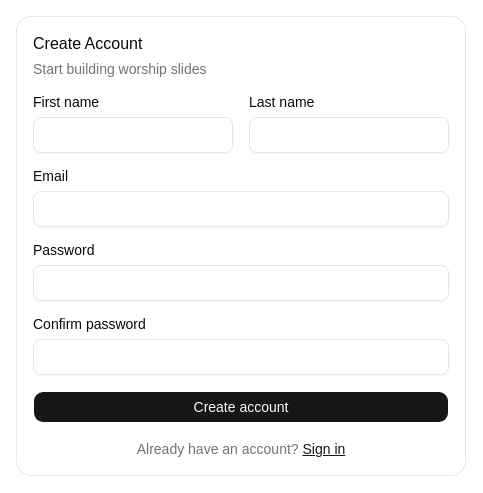
Test: SignupPage › disables the button while the account is being created
The image size is (483, 493).
Step 1. Type "Jay" into the field labelled "First name" → (133, 135), box [33,117,233,153]
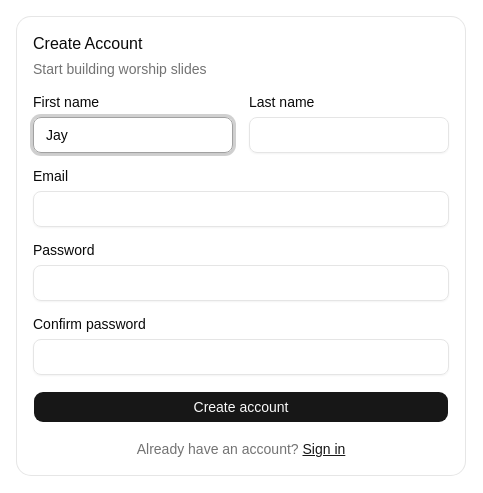
Step 2. Type "Ray" into the field labelled "Last name" → (349, 135), box [249,117,449,153]
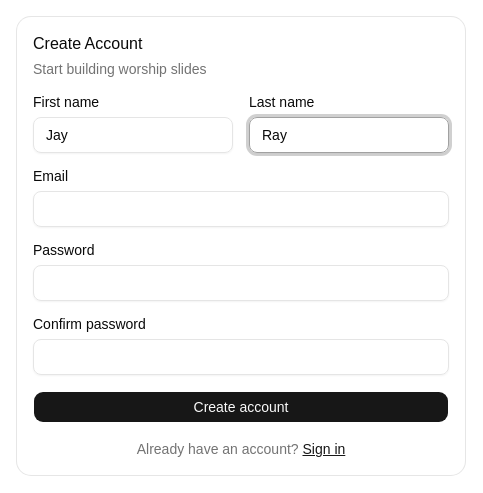
Step 3. Type "jay@example.com" into the field labelled "Email" → (241, 209), box [33,191,449,227]
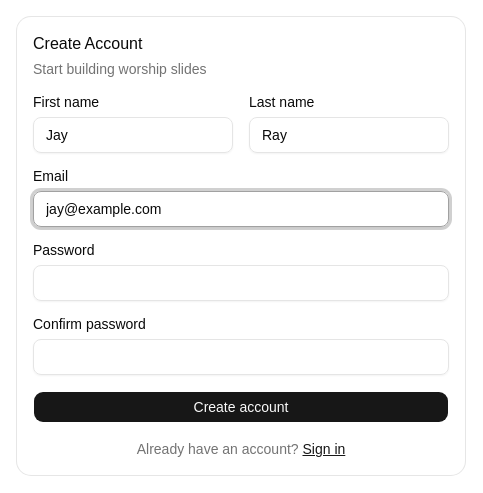
Step 4. Type "secret1" into the password field labelled "Password" → (241, 283), box [33,265,449,301]
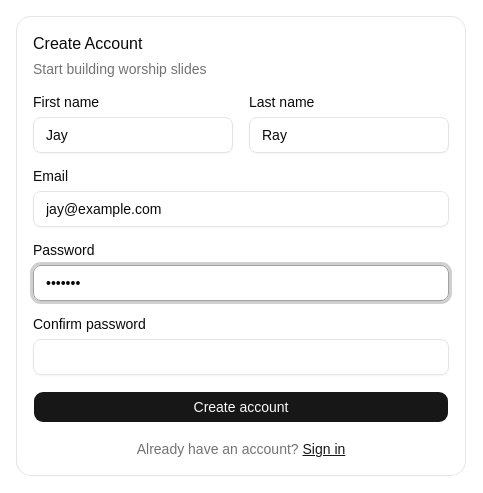
Step 5. Type "secret1" into the password field labelled "Confirm password" → (241, 357), box [33,339,449,375]
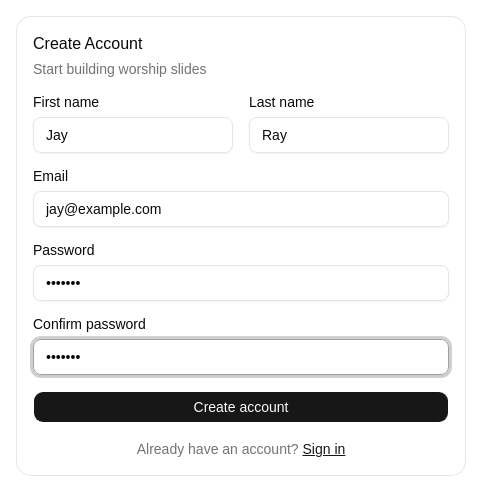
Step 6. Click the button "Create account" → (241, 407), box [33,391,449,423]
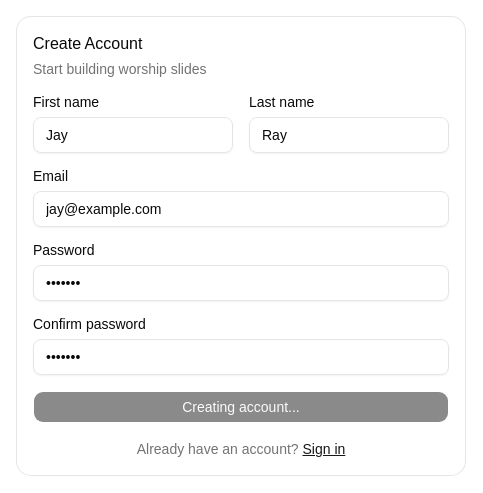
Expected: the button "Creating account..." is disabled, [33,391,449,423]
